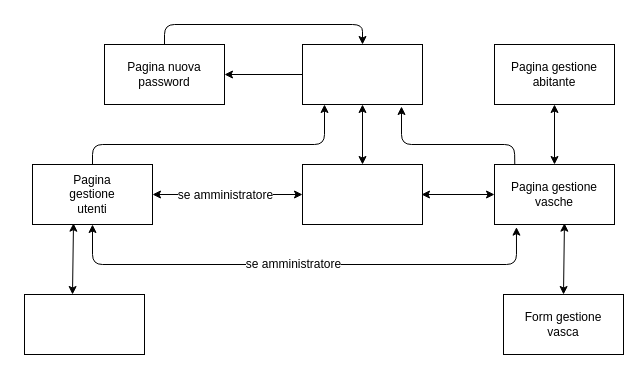
Image size: 641x372. Some labels were removed from this diagram. Each missing label, with the centre of its shape:
"Form gestione utente" goes at (x=84, y=324).
"Pagina Login" goes at (x=362, y=74).
"Pagina riassunto giornaliero" goes at (x=362, y=194).
